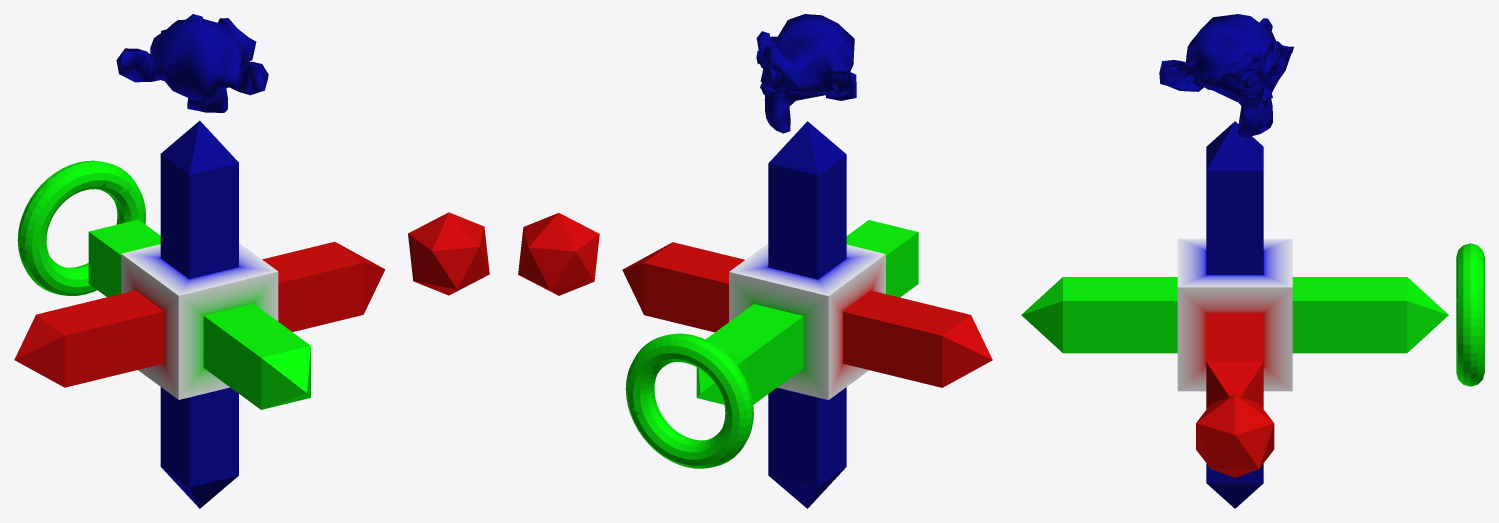
The picture shows the model from 3 angles, left to right: view 1: azimuth 30°, elevation 25°; view 2: azimuth 150°, elevation 25°; view 3: azimuth 270°, elevation 25°; orthographic projection.
Visible parts, largest first — view 1: Suzanne; view 2: Suzanne; view 3: Suzanne.
Part boxes in pixels (left/top/right/bottom): Suzanne: left=14, top=14, right=489, bottom=508; Suzanne: left=518, top=14, right=992, bottom=508; Suzanne: left=1021, top=14, right=1484, bottom=508.
Size of the model in its own units: 2.36 by 2.34 by 2.02.
1 material, 1 textured.
